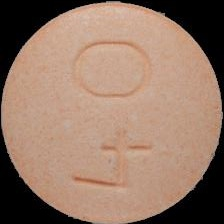35356-943: (0, 0, 224, 224)
